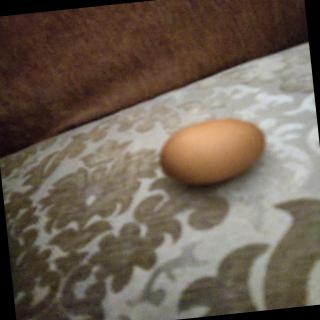Telur: (156, 114, 271, 193)
